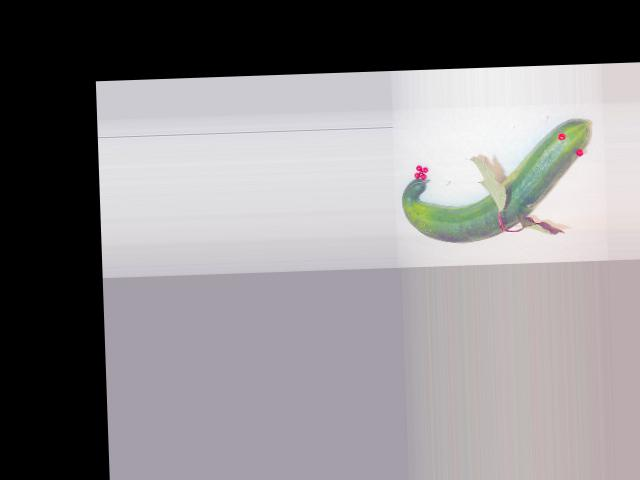cucumber: (399, 118, 593, 244)
